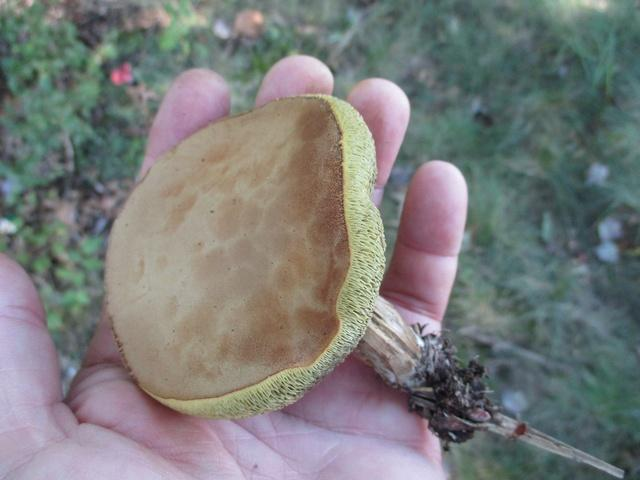Edible Mushroom: (102, 91, 388, 420)
